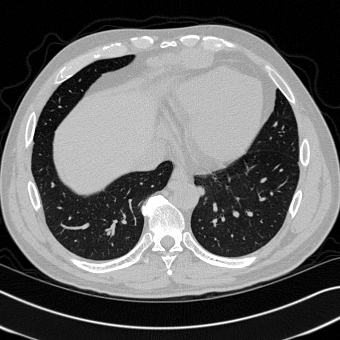nodule: (197, 186, 205, 194)
